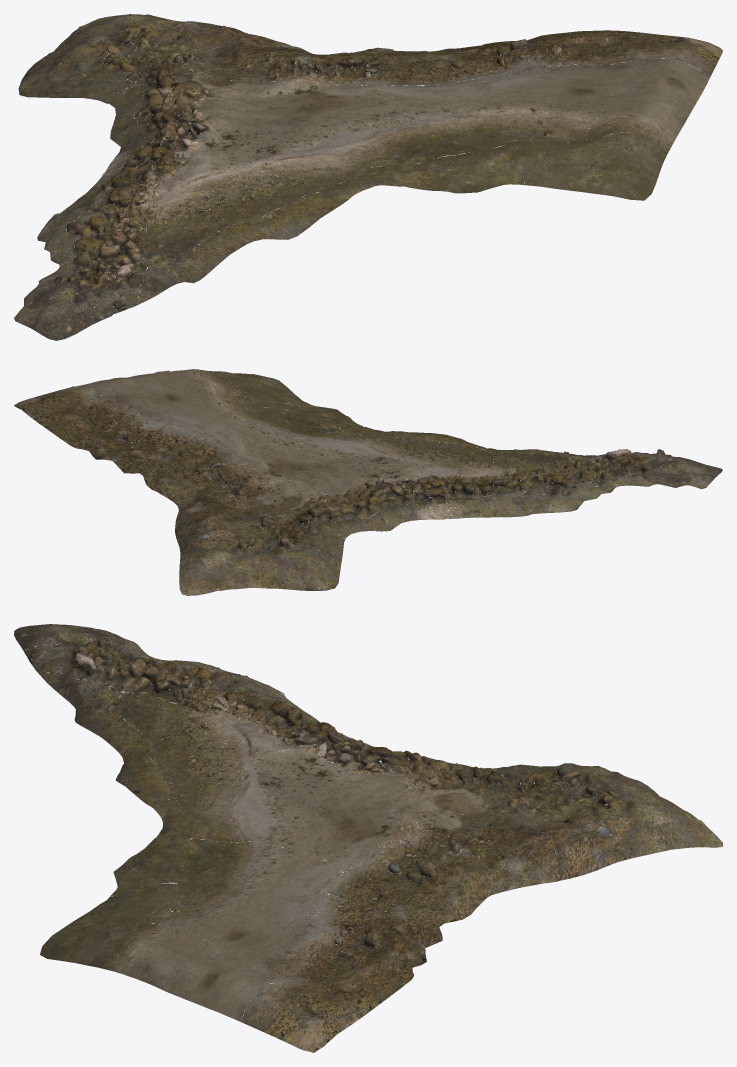
The model's file is coast_rocks_01.gltf.
3 renders of one model, top to bottom at view 1: azimuth 30°, elevation 25°; view 2: azimuth 150°, elevation 25°; view 3: azimuth 270°, elevation 25°, orthographic. The views are drawn at different scales.
Visible parts, largest first — view 1: coast_rocks_01; view 2: coast_rocks_01; view 3: coast_rocks_01.
Boxes of the visible parts, x1=… form: coast_rocks_01: x1=14, y1=14, x2=722, y2=340; coast_rocks_01: x1=14, y1=369, x2=722, y2=595; coast_rocks_01: x1=14, y1=624, x2=722, y2=1052.
Size of the model in its own units: 59.5 by 3.3 by 42.52.
Materials: 1 (1 with a texture image).
